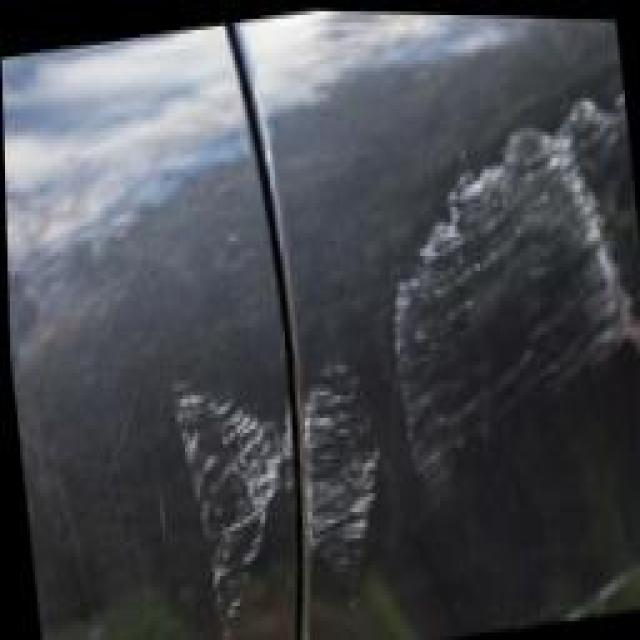Door: (140, 241, 309, 638)
Fender: (260, 60, 639, 612)
